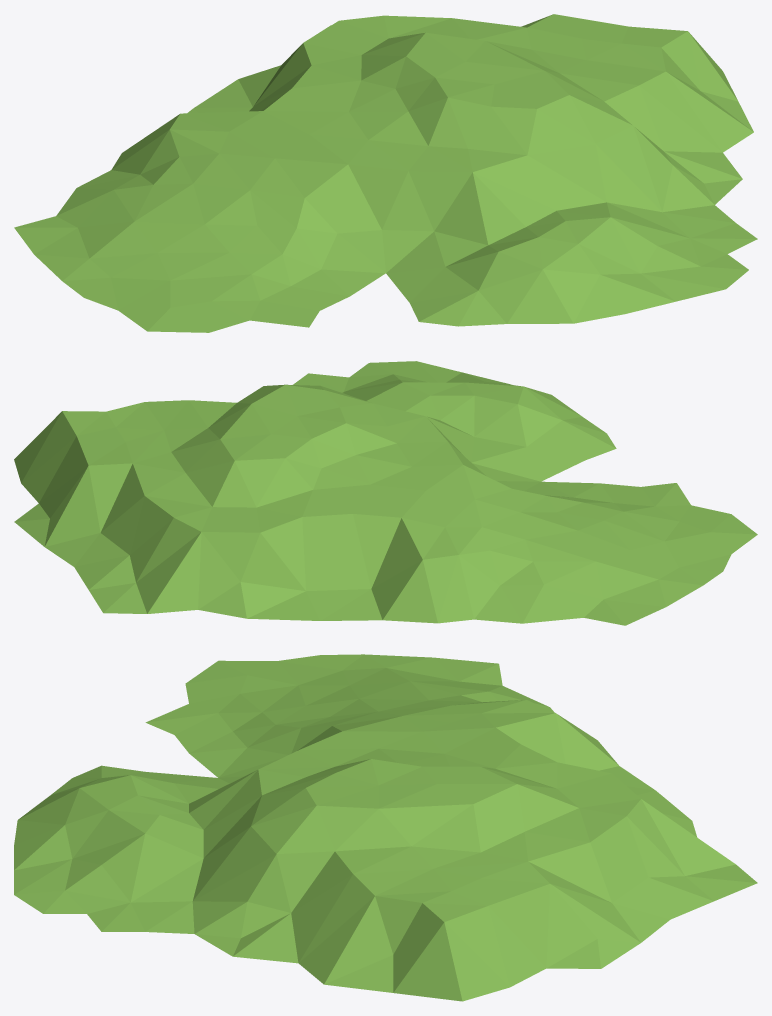
Rendered from MT_Mountain_M_c_06.fbx.
3 views of the same model, one above another, from view 1: azimuth 30°, elevation 25°; view 2: azimuth 150°, elevation 25°; view 3: azimuth 270°, elevation 25° (orthographic). The views are drawn at different scales.
Visible parts, largest first — view 1: MT_Mountain_M_c_06; view 2: MT_Mountain_M_c_06; view 3: MT_Mountain_M_c_06.
Part boxes in pixels (box(x1,y1,x2,y2)): MT_Mountain_M_c_06: box(14, 14, 757, 332); MT_Mountain_M_c_06: box(14, 361, 757, 625); MT_Mountain_M_c_06: box(14, 654, 757, 1001).
Size of the model in its own units: 4414 by 516 by 3984.
